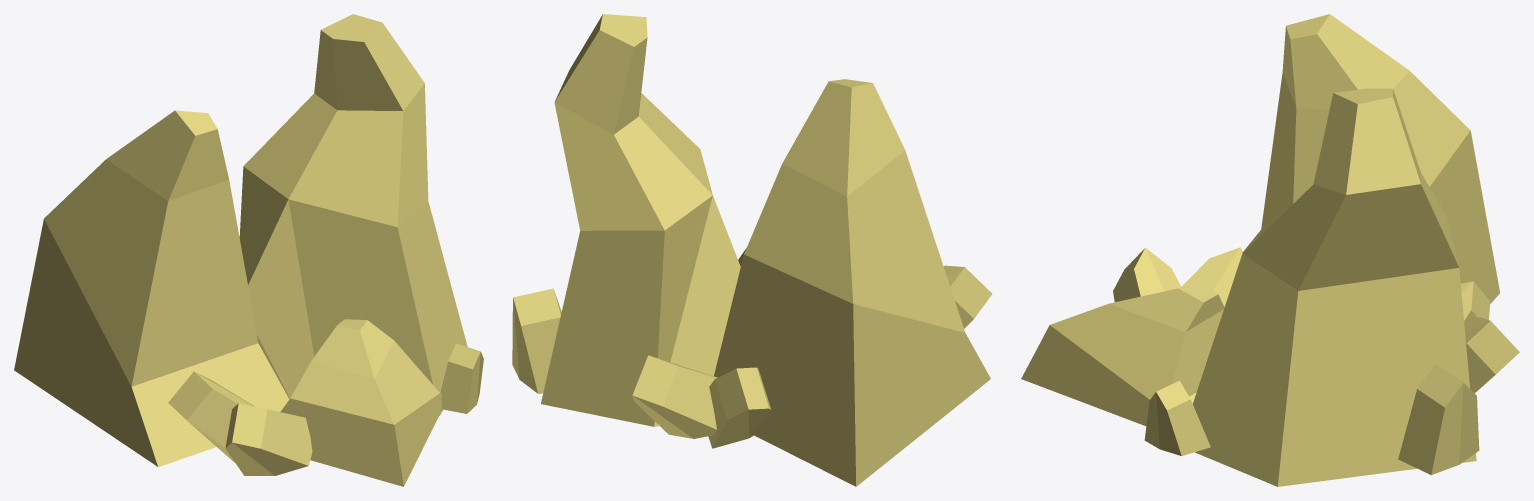
The model's file is RockType3 02.fbx.
The picture shows the model from 3 angles, left to right: view 1: azimuth 30°, elevation 25°; view 2: azimuth 150°, elevation 25°; view 3: azimuth 270°, elevation 25°; orthographic projection. The views are drawn at different scales.
Parts seen in each view (by area): view 1: Rock Type3 02 mesh; view 2: Rock Type3 02 mesh; view 3: Rock Type3 02 mesh.
Part boxes in pixels (x1,y1,x2,y2): Rock Type3 02 mesh: (14, 14, 483, 486); Rock Type3 02 mesh: (512, 14, 992, 486); Rock Type3 02 mesh: (1021, 14, 1519, 486).
Size of the model in its own units: 230 by 210 by 257.
